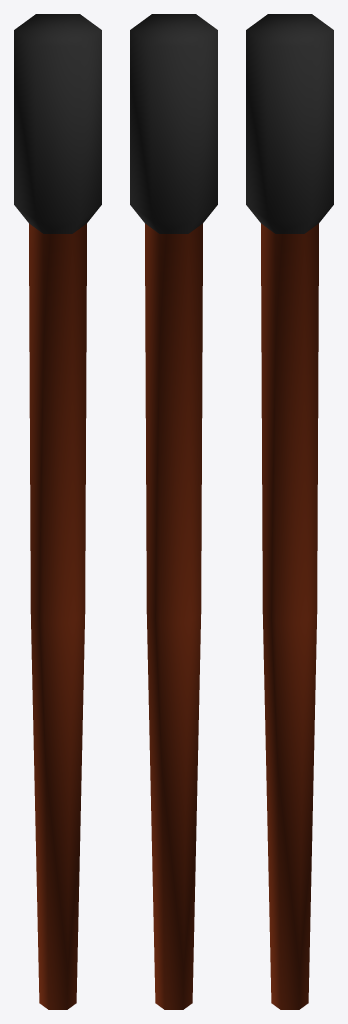
The model's file is Torche.fbx.
3 renders of one model, left to right at view 1: azimuth 90°, elevation 25°; view 2: azimuth 210°, elevation 25°; view 3: azimuth 270°, elevation 25°, orthographic.
Visible parts, largest first — view 1: torche; view 2: torche; view 3: torche.
Part boxes in pixels (x1,y1,x2,y2): torche: (14, 14, 101, 1009); torche: (130, 14, 217, 1009); torche: (246, 14, 333, 1009).
Bounding box in the file's own units: 12.47 × 176 × 14.4.
Materials: 1 (1 with a texture image).
